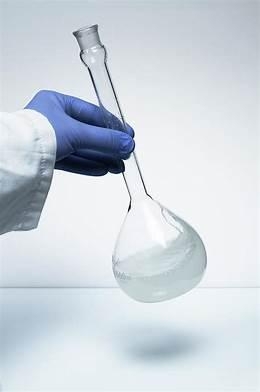Volumetric flask: (49, 22, 211, 302)
